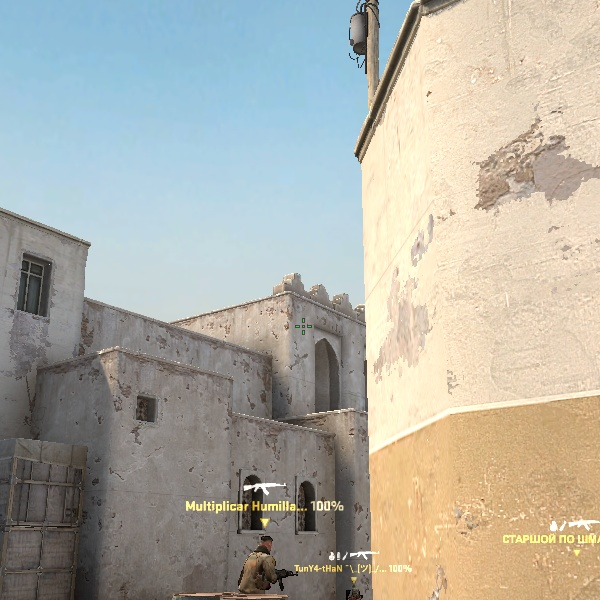t_body: (227, 530, 295, 598)
t_head: (251, 530, 279, 560)
